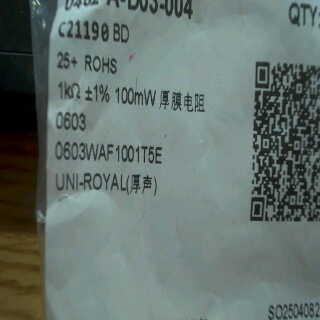1kR: (54, 77, 86, 100)
